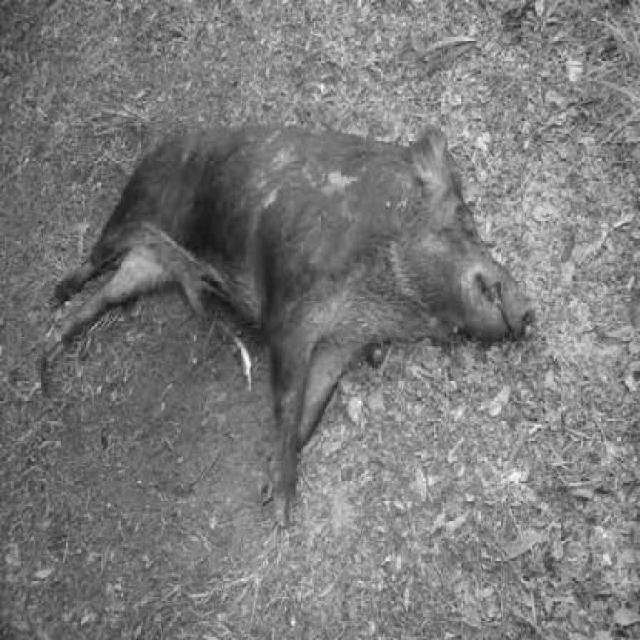Boar: (56, 114, 558, 478)
